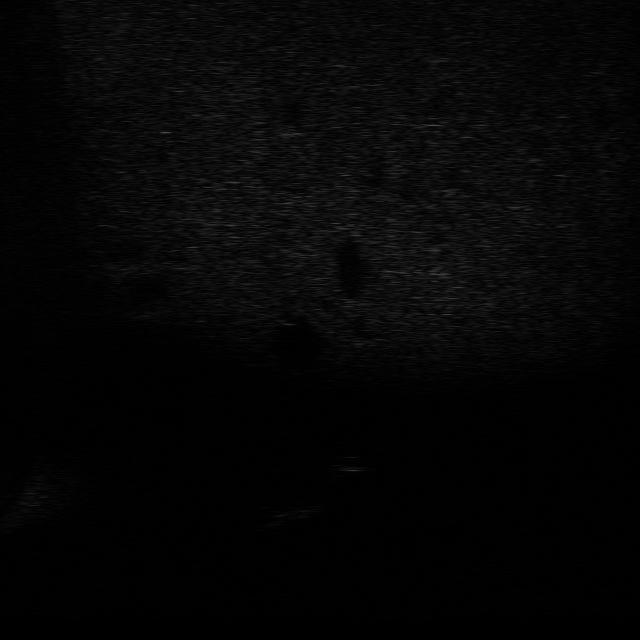ball: (321, 448, 375, 477)
square cage: (245, 494, 334, 532)
